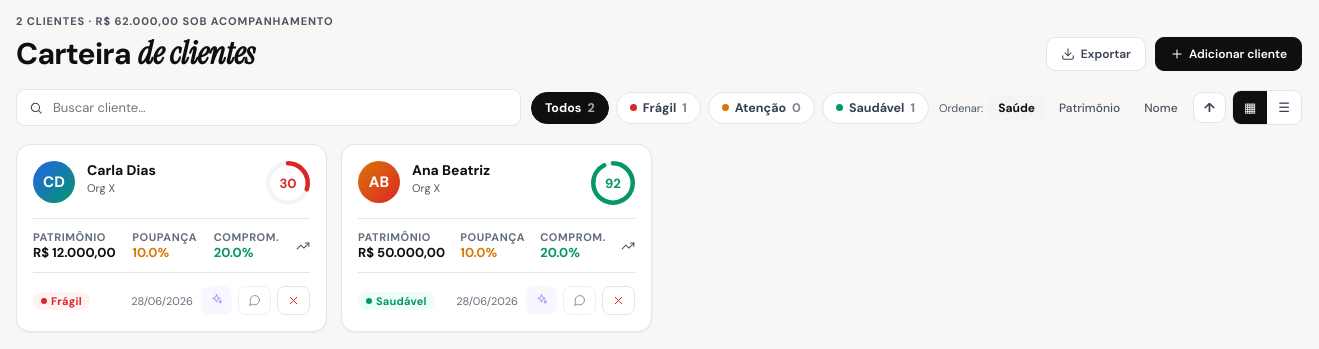
it: ConsultantClientsPage › busca por nome
The image size is (1319, 349).
expect the text "Ana Beatriz" is shown: met, box x1=412 y1=161 x2=490 y2=179
Step 1. Type "carla" into the search field labelled "Buscar cliente" → {"x": 280, "y": 108}, box x1=51 y1=98 x2=508 y2=117
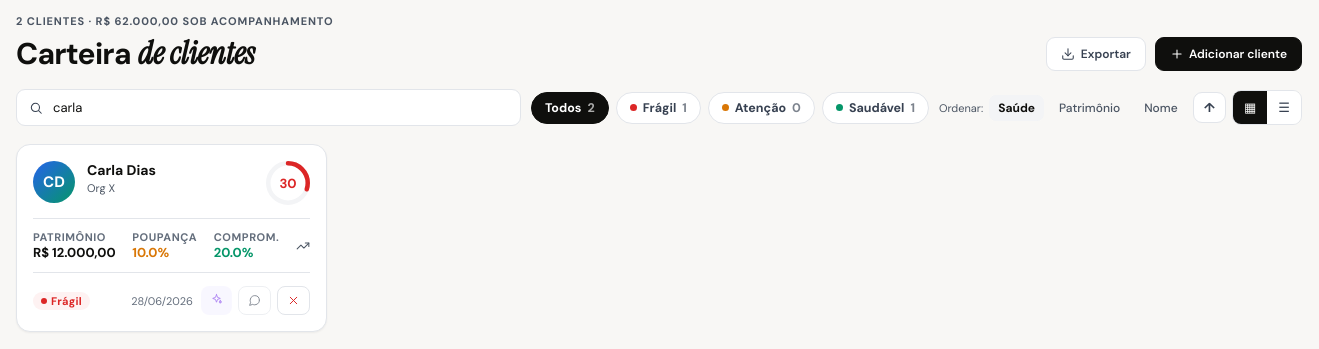
expect the text "Carla Dias" is shown: met, box x1=87 y1=161 x2=156 y2=179
expect the text "Ana Beatriz" is gone: met
